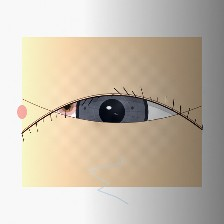foreign_body_visible: (48, 90, 87, 122)
